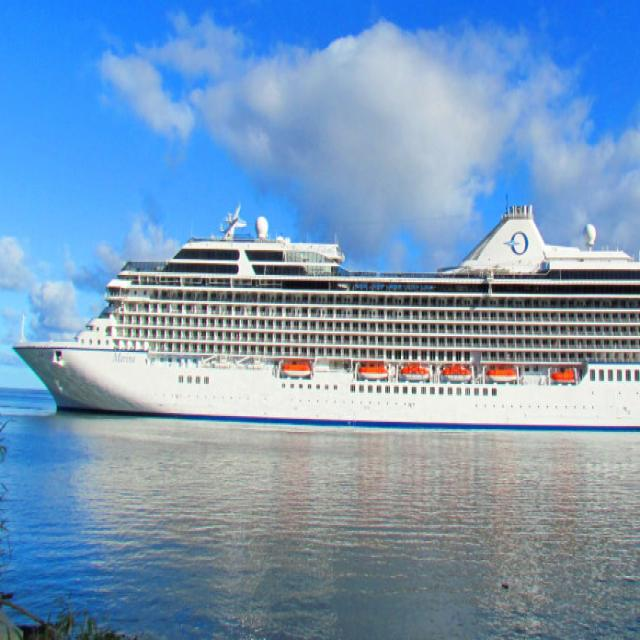cruises: (11, 197, 640, 442)
